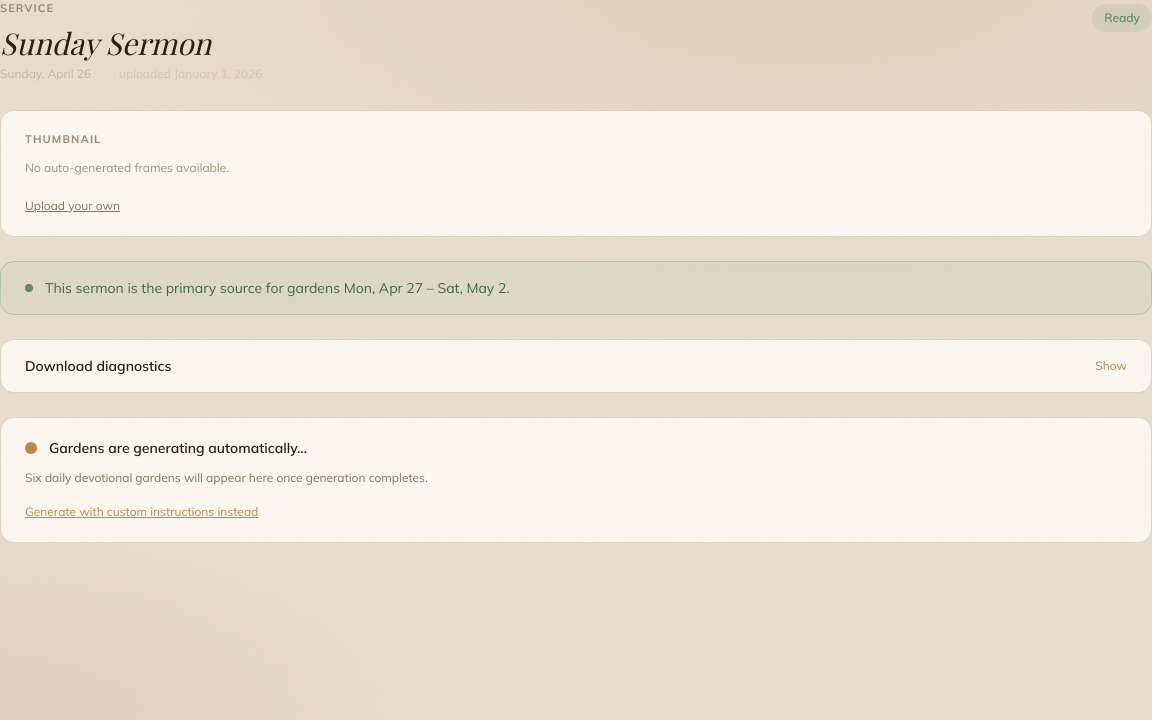
SermonDetailClient — YouTube imports › fetches and renders the diagnostics panel for staff viewers
The width and height of the screenshot is (1152, 720).
Click the text "Download diagnostics" at (98, 366), box top-left (25, 356), bottom-right (172, 376)
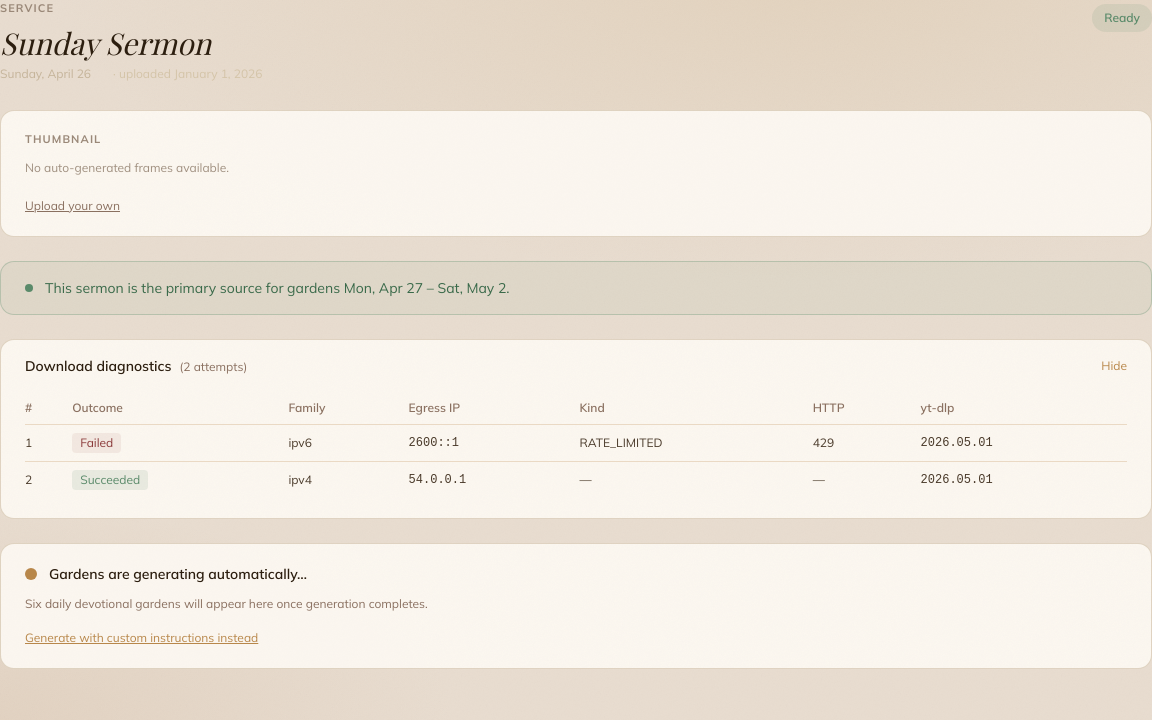
Expected: the text "RATE_LIMITED" is shown, top-left (580, 424), bottom-right (813, 461)
Expected: the text "429" is shown, top-left (813, 424), bottom-right (921, 461)
Expected: the text "2600::1" is shown, top-left (409, 424), bottom-right (580, 461)
